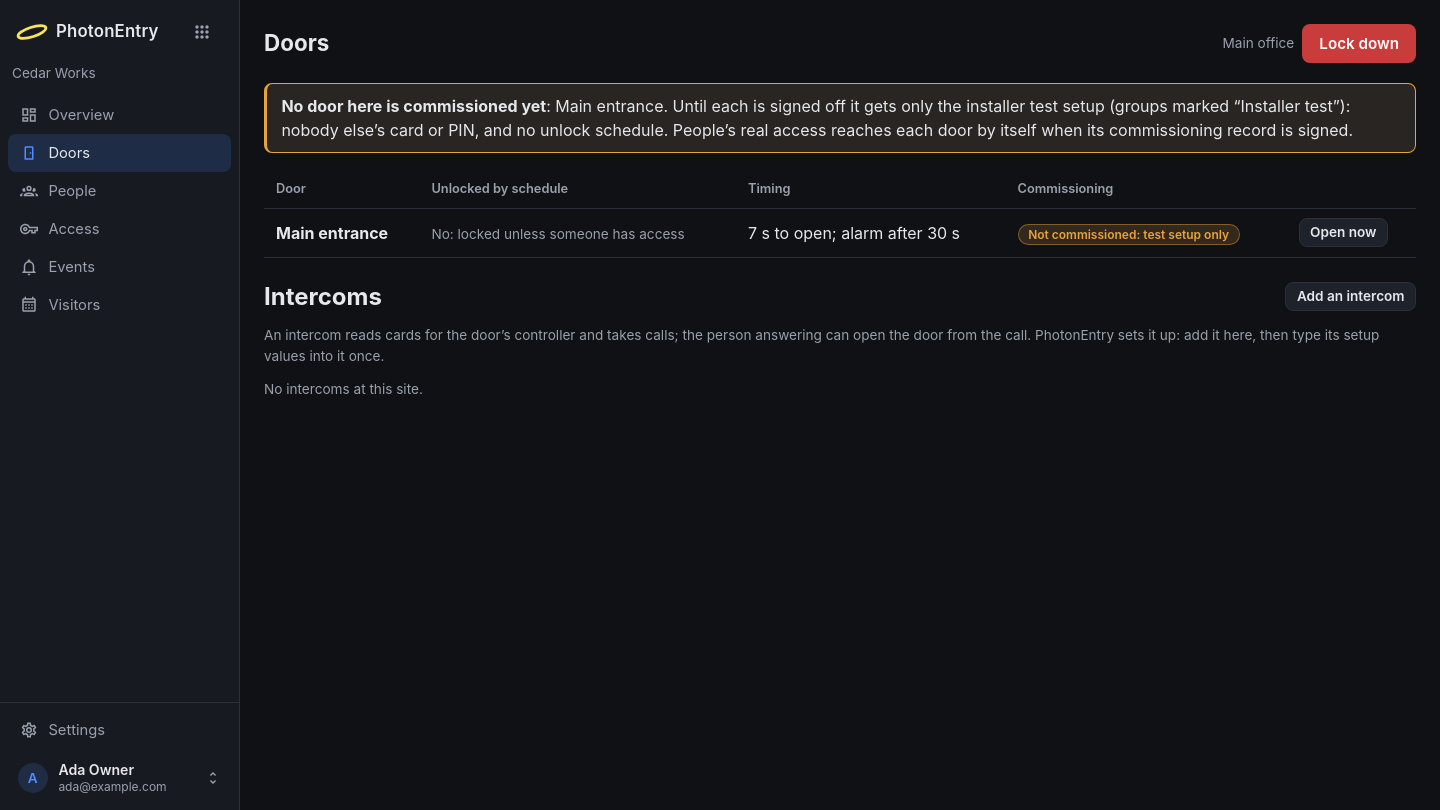
Test case: holding doors back › signed off, but the controller could not take it
Click the button with aria-label "Main entrance: commission".
click(1129, 234)  # box [1018,224,1240,244]
(page scrolled)
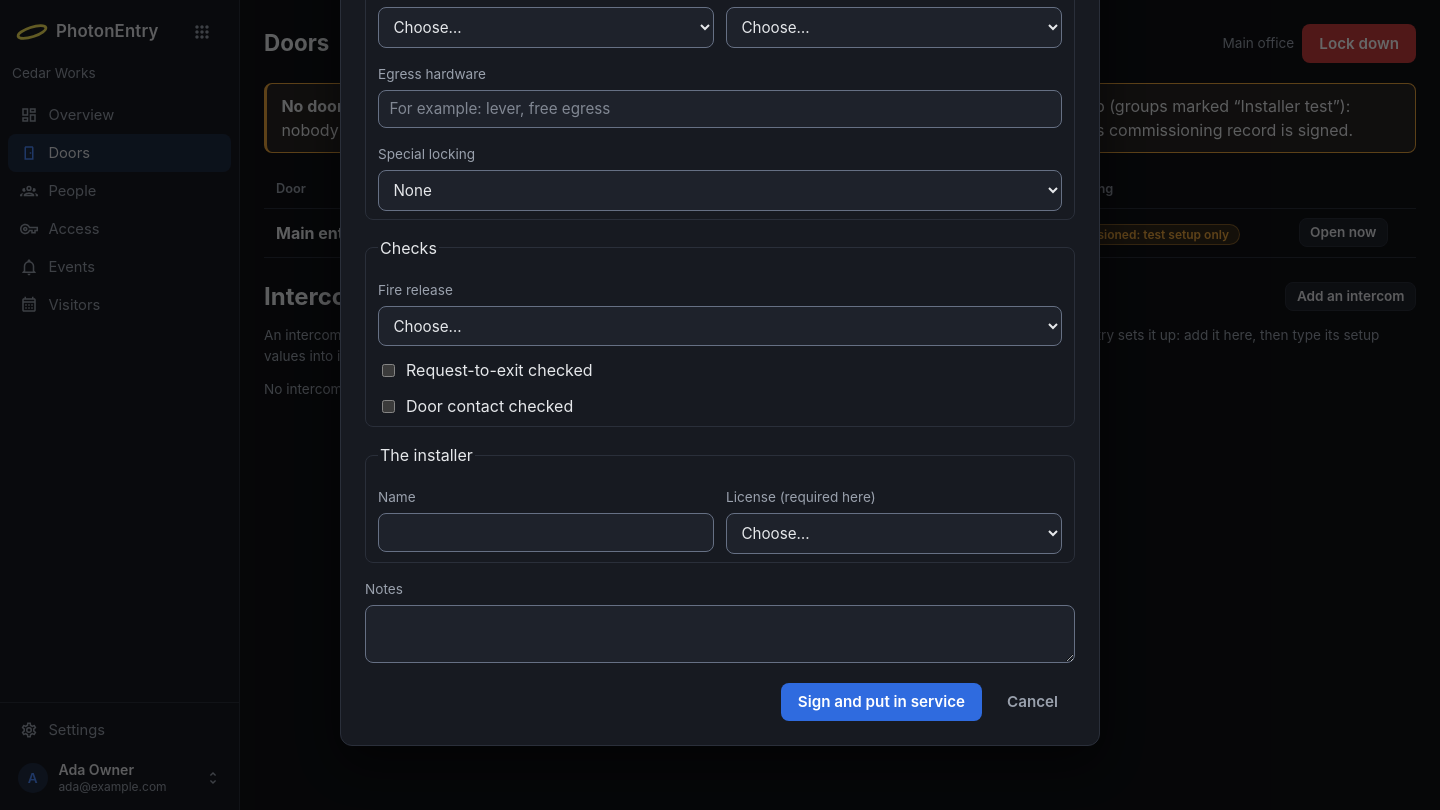
Click the button "Sign and put in service".
click(881, 702)  # box [781,683,982,721]
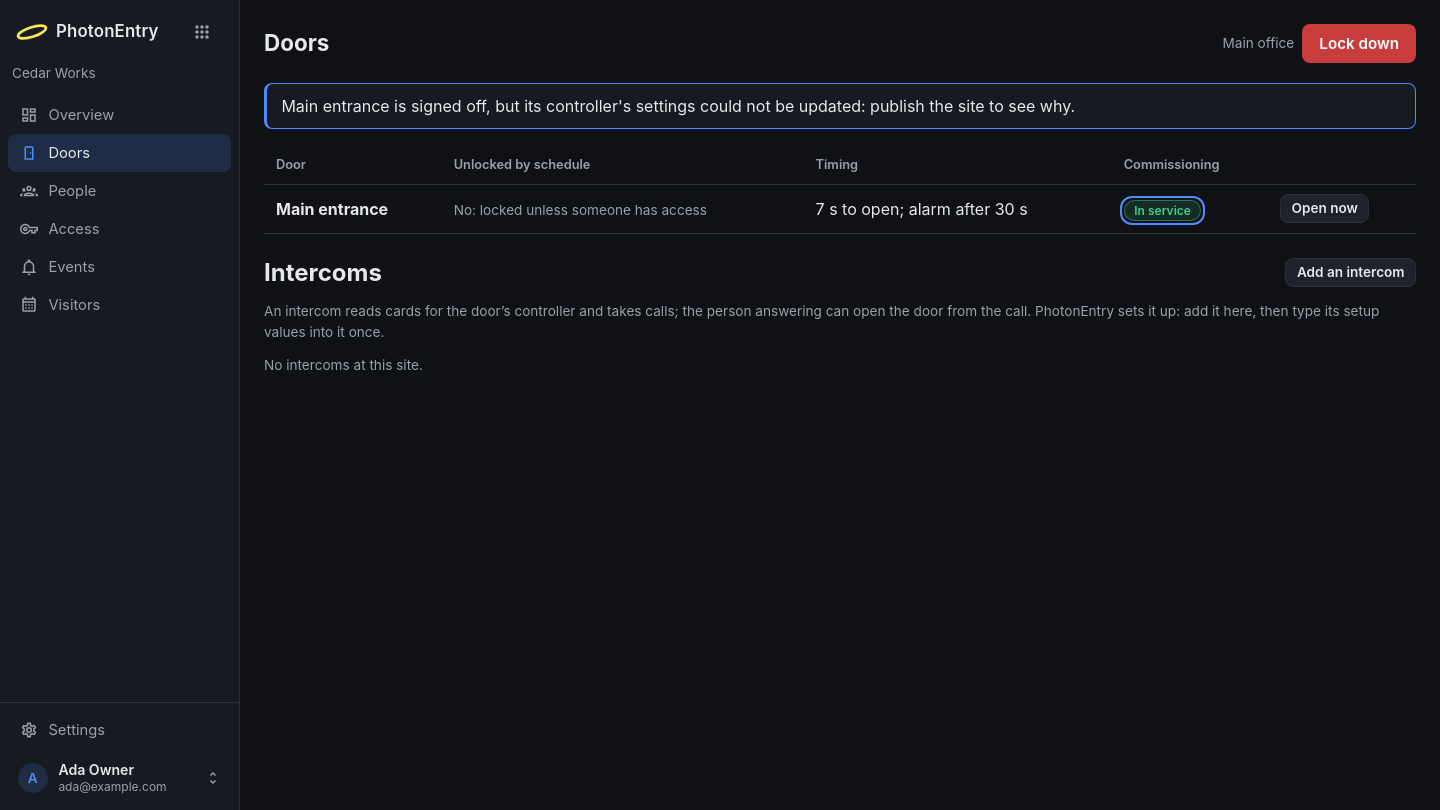
Expected: the text "could not be updated: publish the site to see why" is shown, [281,96,1075,116]
